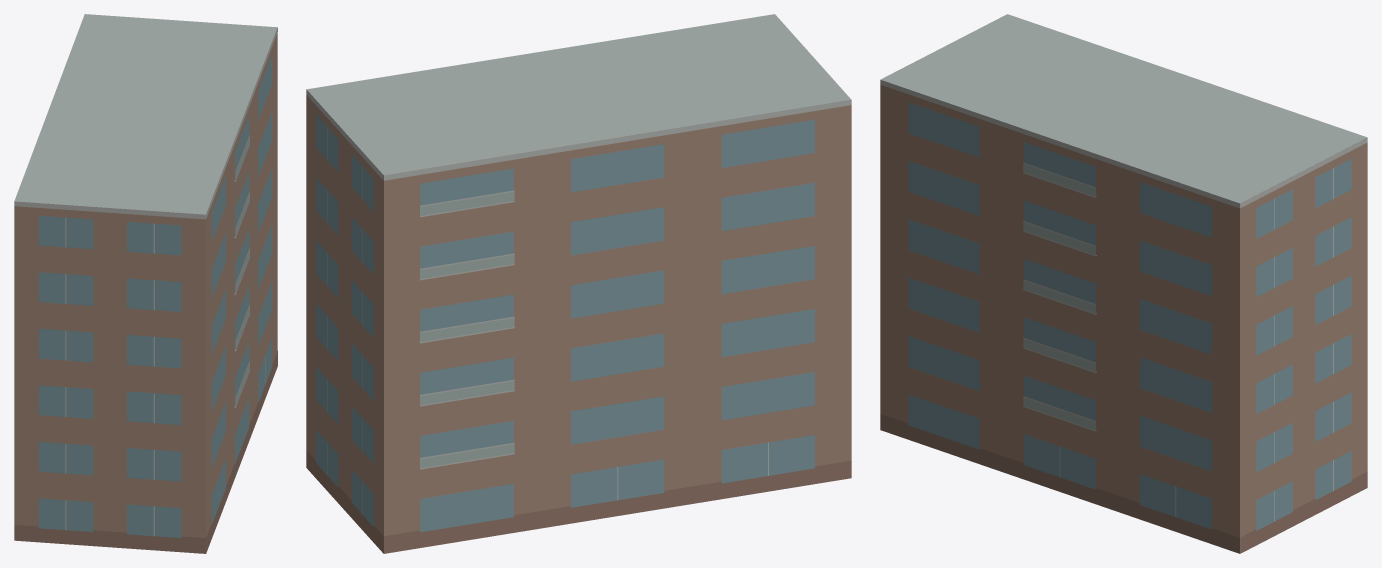
File: survey-upis-32988073.glb
3 renders of one model, left to right at view 1: azimuth 30°, elevation 25°; view 2: azimuth 150°, elevation 25°; view 3: azimuth 270°, elevation 25°, orthographic. The views are drawn at different scales.
Parts seen in each view (by area): view 1: survey-upis-32988073.tmp; view 2: survey-upis-32988073.tmp; view 3: survey-upis-32988073.tmp.
Boxes of the visible parts, x1,y1,x2,y2 form: survey-upis-32988073.tmp: (14, 14, 277, 553); survey-upis-32988073.tmp: (306, 14, 851, 553); survey-upis-32988073.tmp: (880, 14, 1367, 553).
Size of the model in its own units: 20.02 by 17.25 by 21.76.
